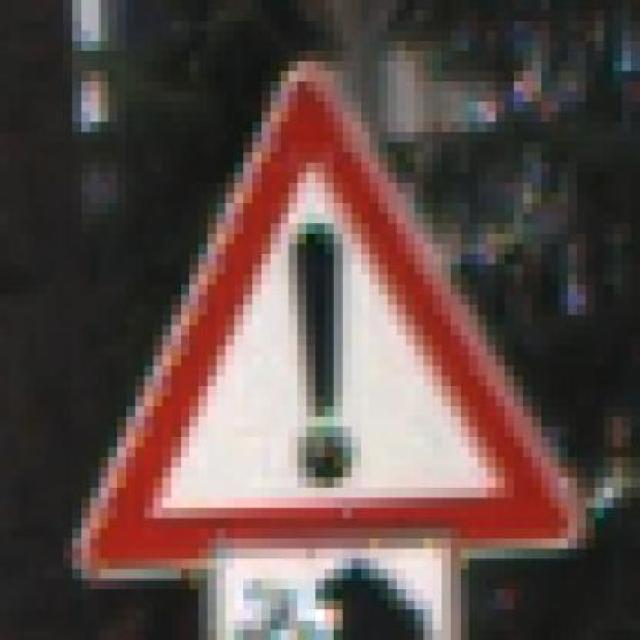Attention Please-: (54, 61, 577, 579)
